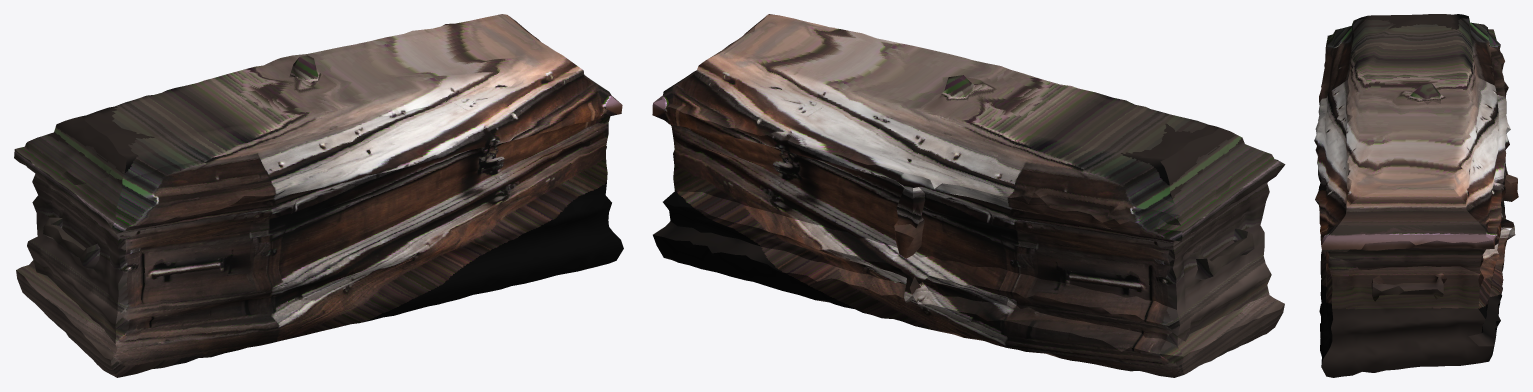
File: coffin.glb
The picture shows the model from 3 angles, left to right: view 1: azimuth 30°, elevation 25°; view 2: azimuth 150°, elevation 25°; view 3: azimuth 270°, elevation 25°; orthographic projection. The views are drawn at different scales.
Parts seen in each view (by area): view 1: geometry_0; view 2: geometry_0; view 3: geometry_0.
Boxes of the visible parts, x1,y1,x2,y2 form: geometry_0: (14,14,623,377); geometry_0: (652,14,1285,377); geometry_0: (1314,14,1518,377).
Size of the model in its own units: 1.44 by 0.6 by 0.5859.
Materials: 1 (1 with a texture image).
